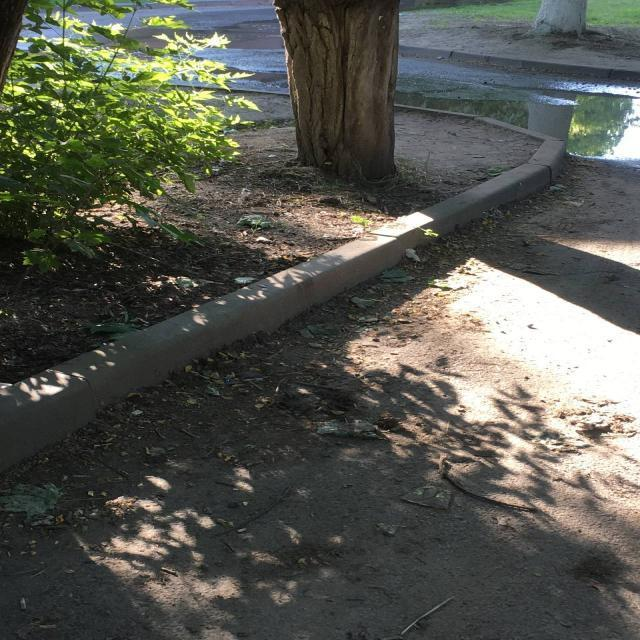bump: (0, 296, 259, 470), (215, 231, 392, 338), (381, 168, 539, 250)
